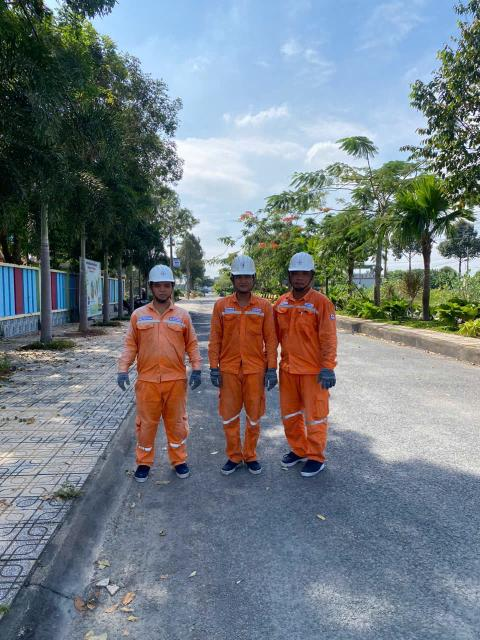gloves: (309, 366, 340, 392), (206, 365, 228, 392), (261, 365, 279, 397), (185, 371, 205, 393), (113, 371, 134, 391)
helmet: (224, 248, 266, 284), (145, 263, 182, 295), (283, 251, 319, 282)
shoes: (126, 461, 160, 484), (278, 441, 304, 468), (211, 458, 243, 478), (294, 446, 315, 476), (244, 452, 268, 478), (166, 458, 192, 480)
